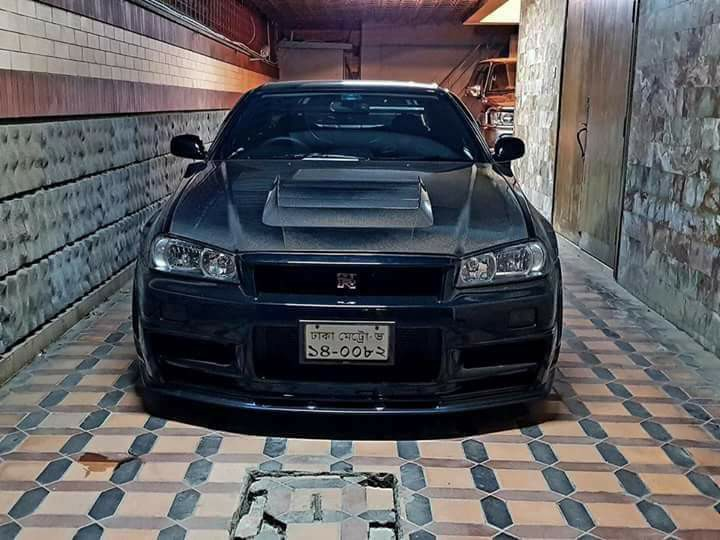registration_plate: (304, 323, 389, 361)
